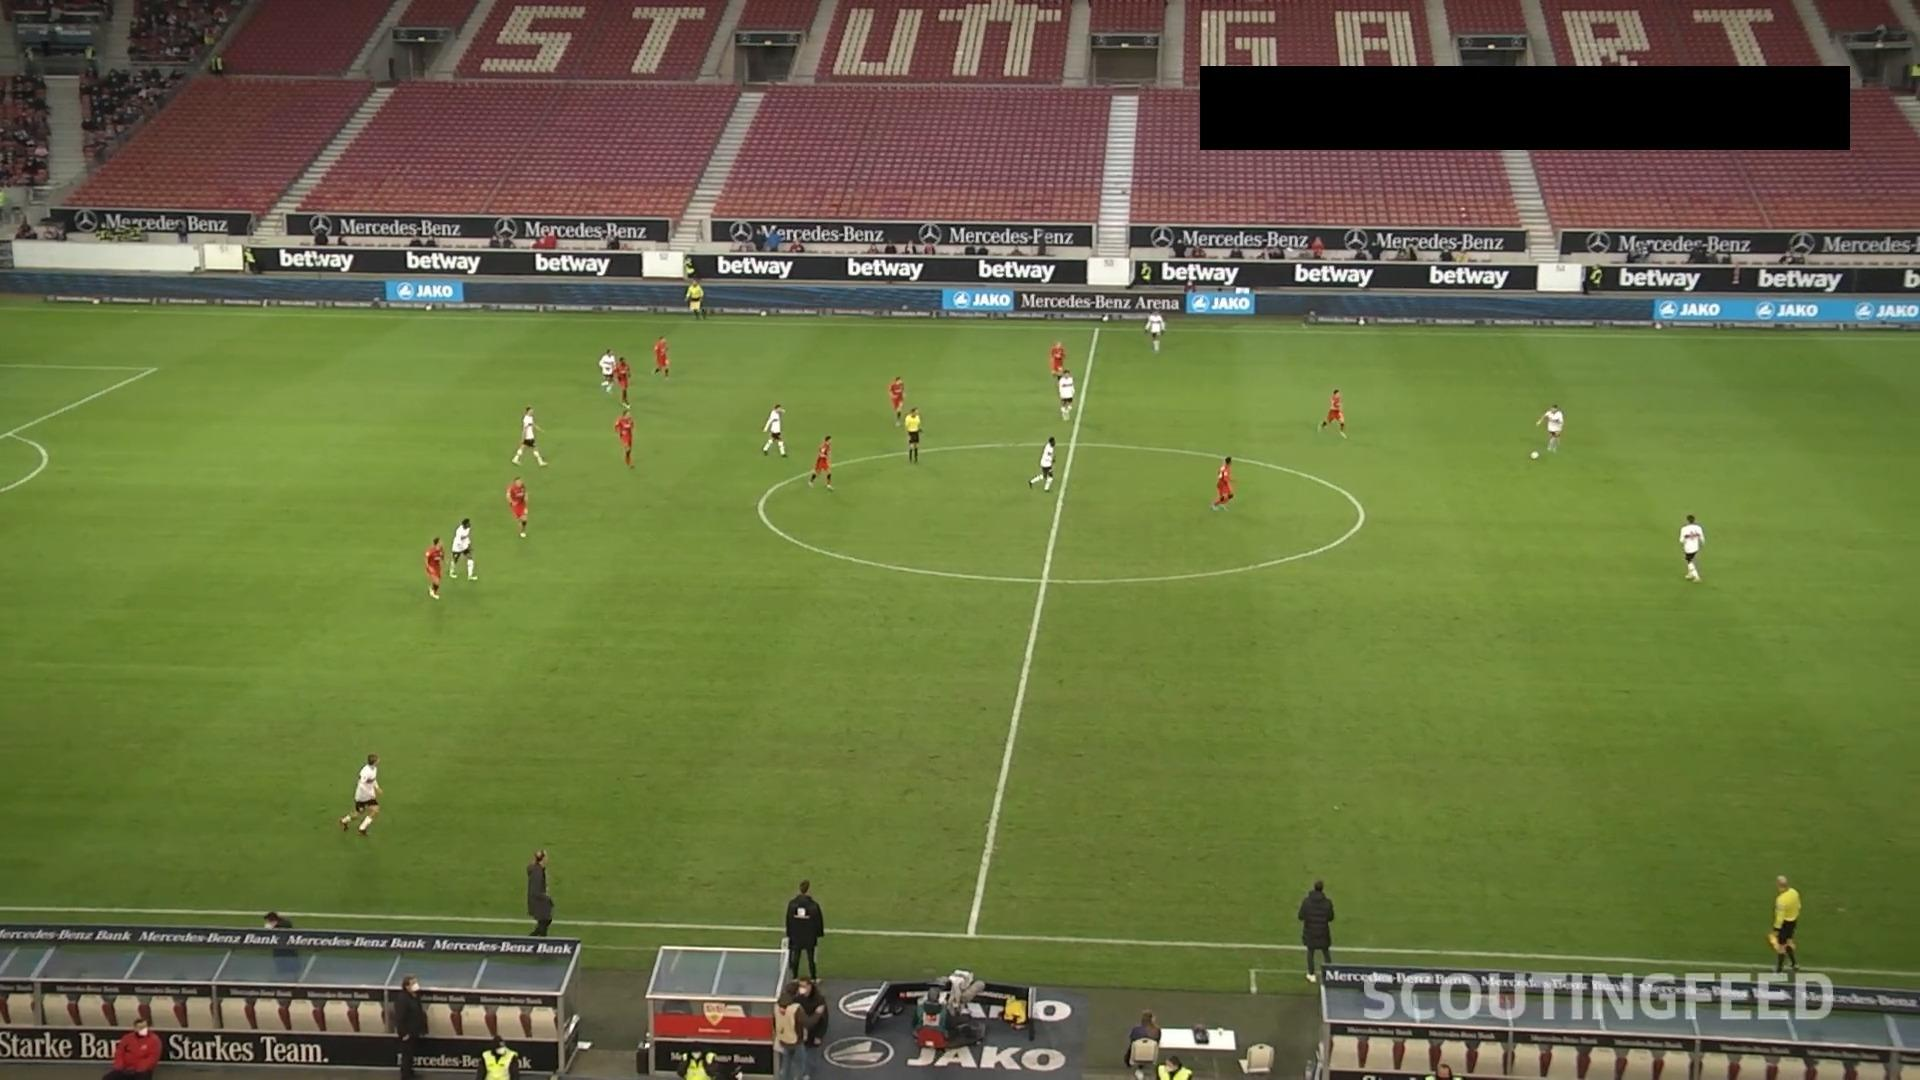ball: (1530, 450, 1542, 460)
